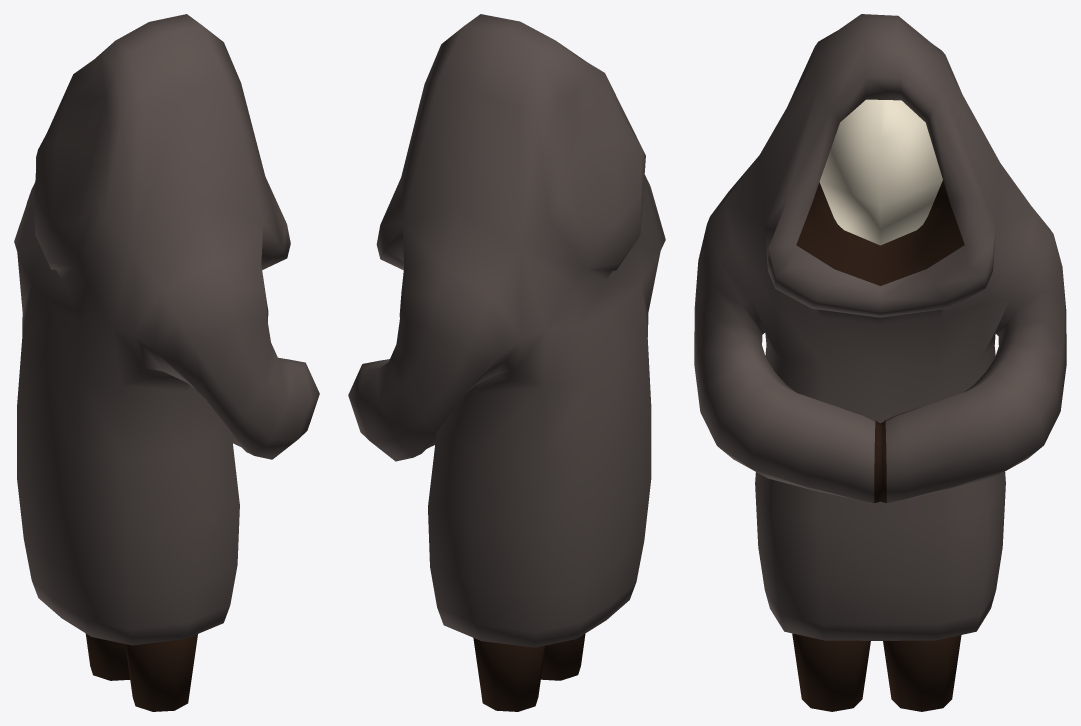
Rendered from SM_monk.fbx.
3 renders of one model, left to right at view 1: azimuth 30°, elevation 25°; view 2: azimuth 150°, elevation 25°; view 3: azimuth 270°, elevation 25°, orthographic. The views are drawn at different scales.
Visible parts, largest first — view 1: Cube; view 2: Cube; view 3: Cube.
Part boxes in pixels (x1=…): Cube: x1=14, y1=14, x2=319, y2=711; Cube: x1=348, y1=14, x2=665, y2=711; Cube: x1=694, y1=14, x2=1066, y2=711.
Size of the model in its own units: 304 by 838 by 411.
